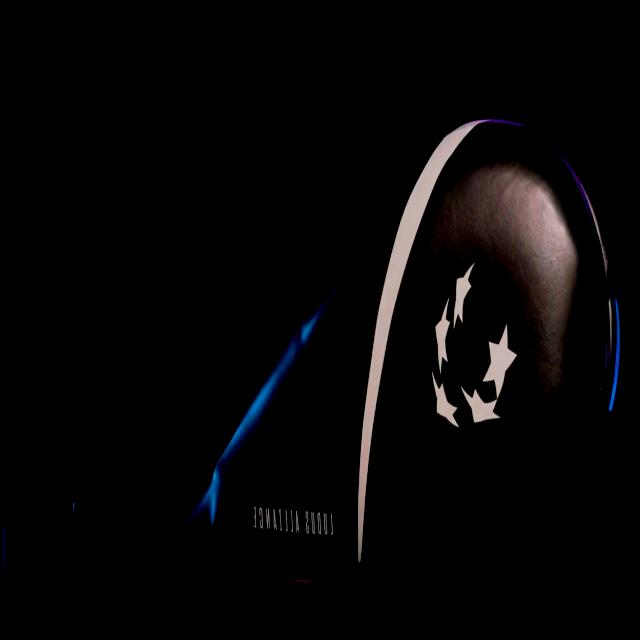paddle: (82, 111, 625, 617)
